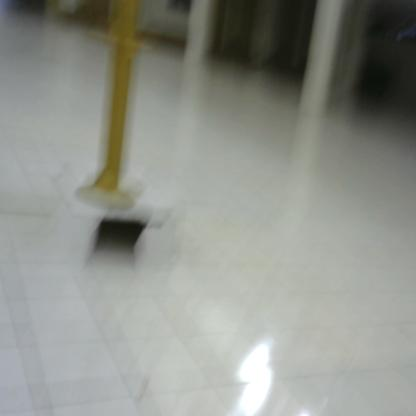pole: (73, 1, 159, 212)
